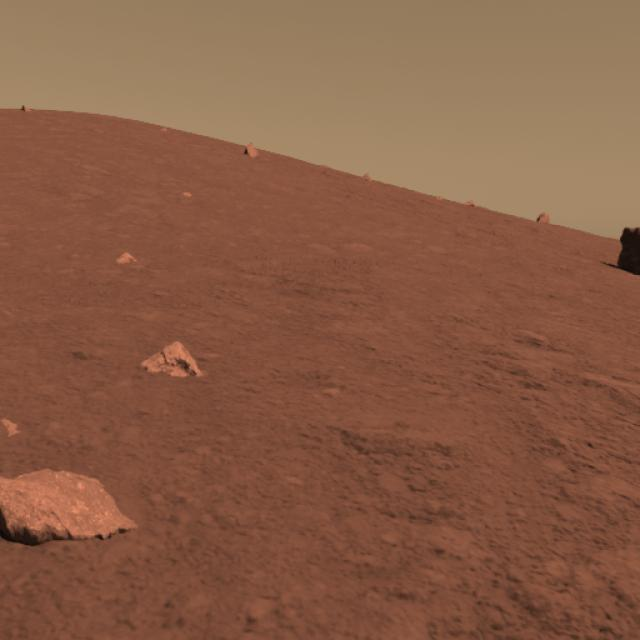rock: (0, 458, 142, 546)
